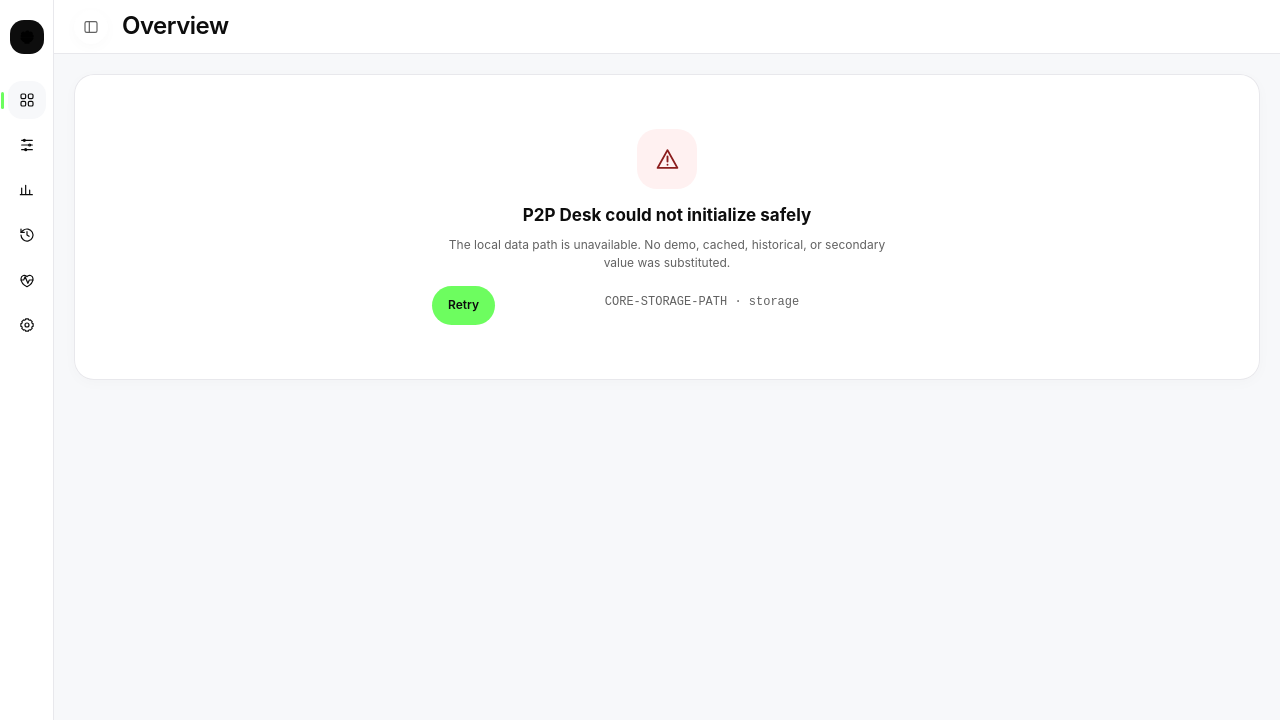
Test case: approved application shell › renders a typed startup error and retries without fallback
Expected: the message shows "No demo, cached, historical, or secondary value was substituted", [449,237,885,270]
Step 1. Click the button "Retry" → (464, 305), box [432,286,495,325]
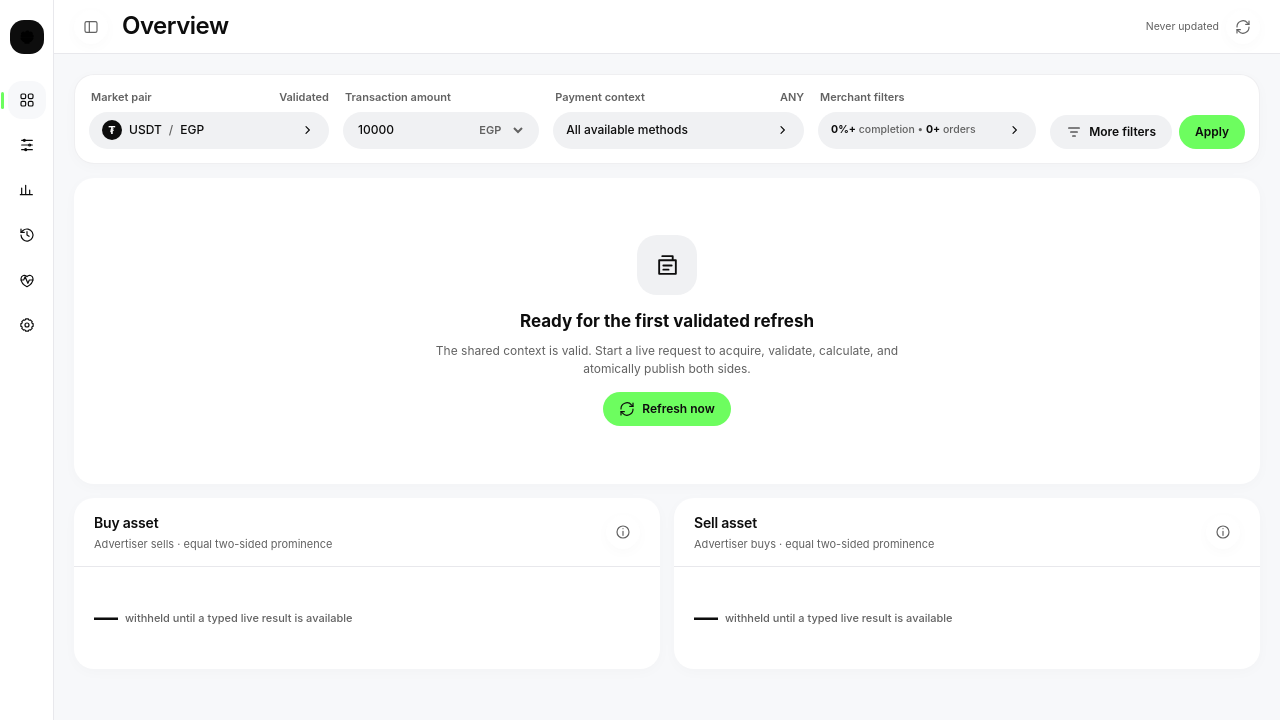
Now the heading "Ready for the first validated refresh" is shown, box [520,311,814,331]
